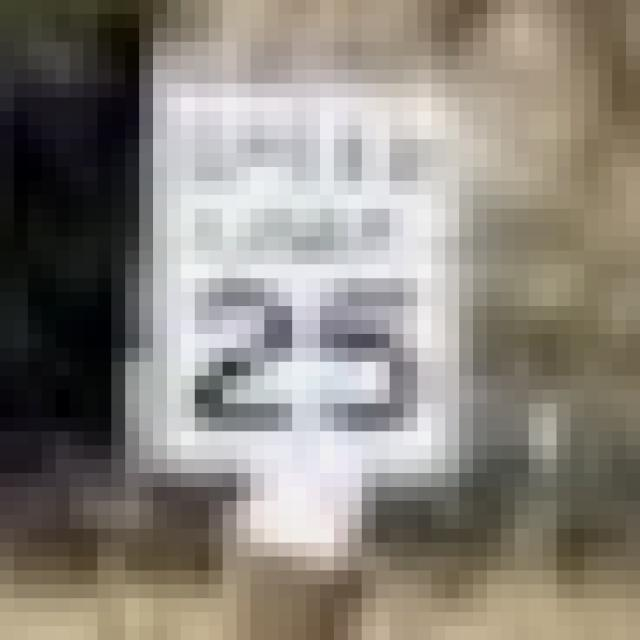speedLimit25: (151, 70, 444, 462)
